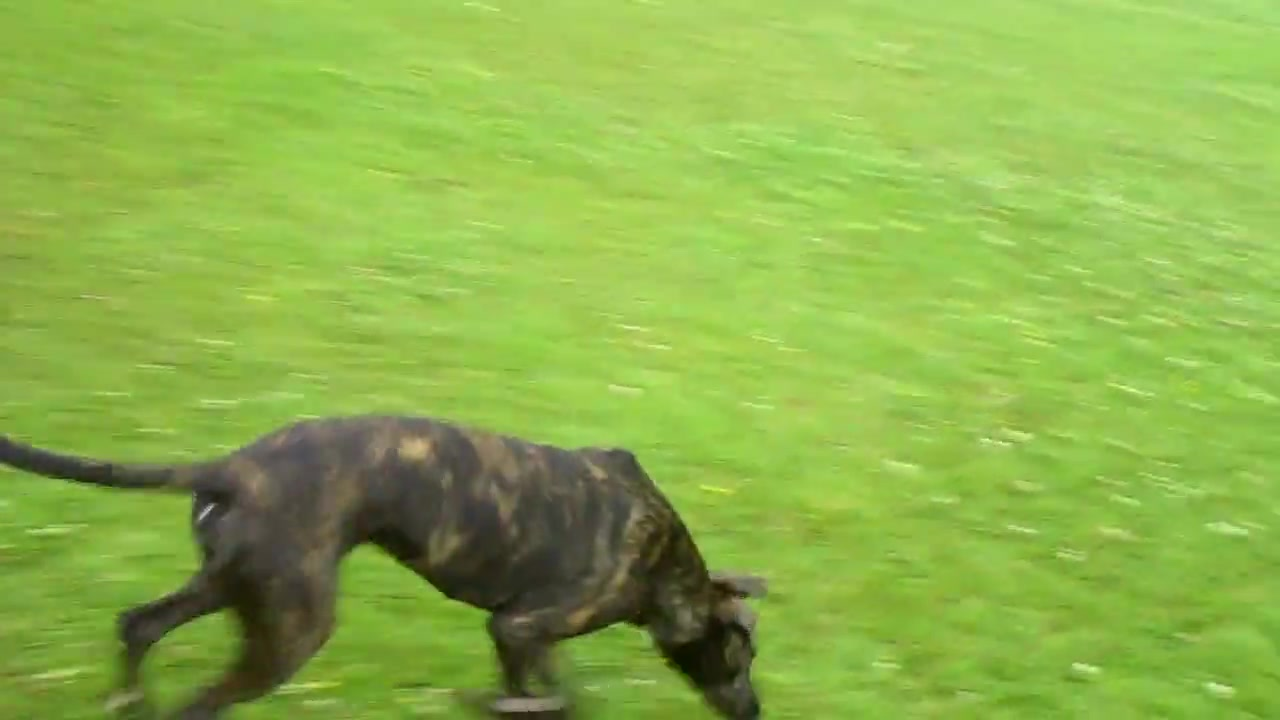dog: (1, 410, 775, 720)
